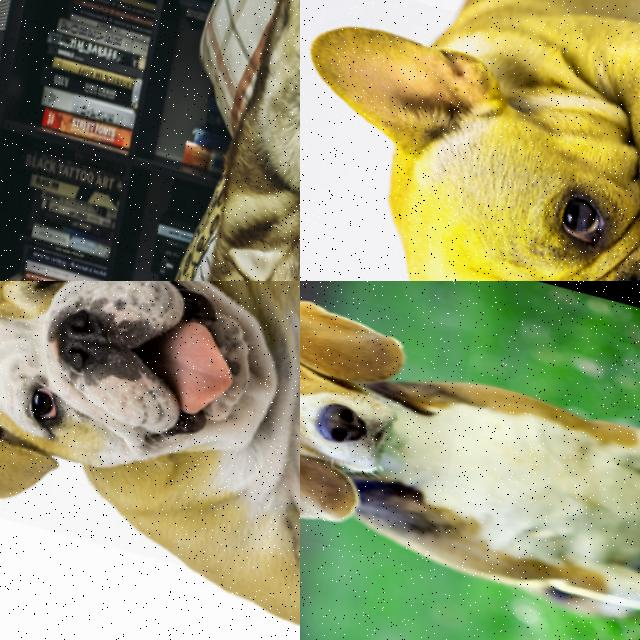beagle: (300, 281, 478, 570)
bulldog: (300, 0, 640, 281), (0, 281, 300, 581)
husky: (169, 175, 300, 281)
